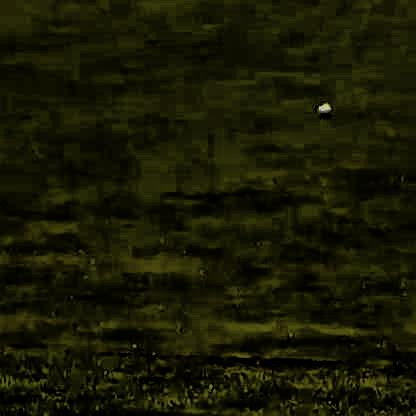golfball: (314, 99, 330, 115)
